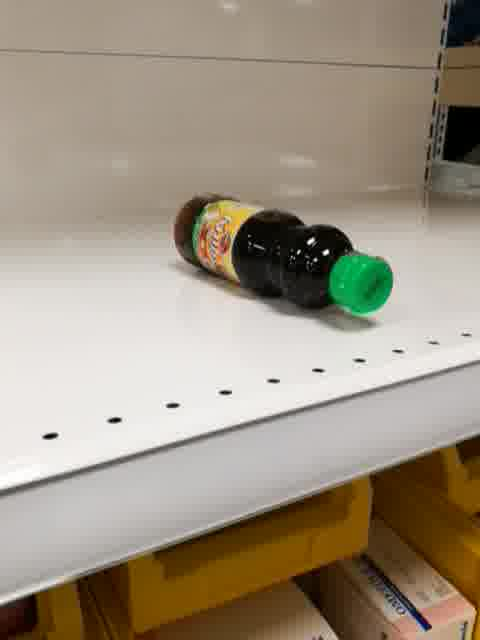cookingoil: (168, 189, 397, 317)
